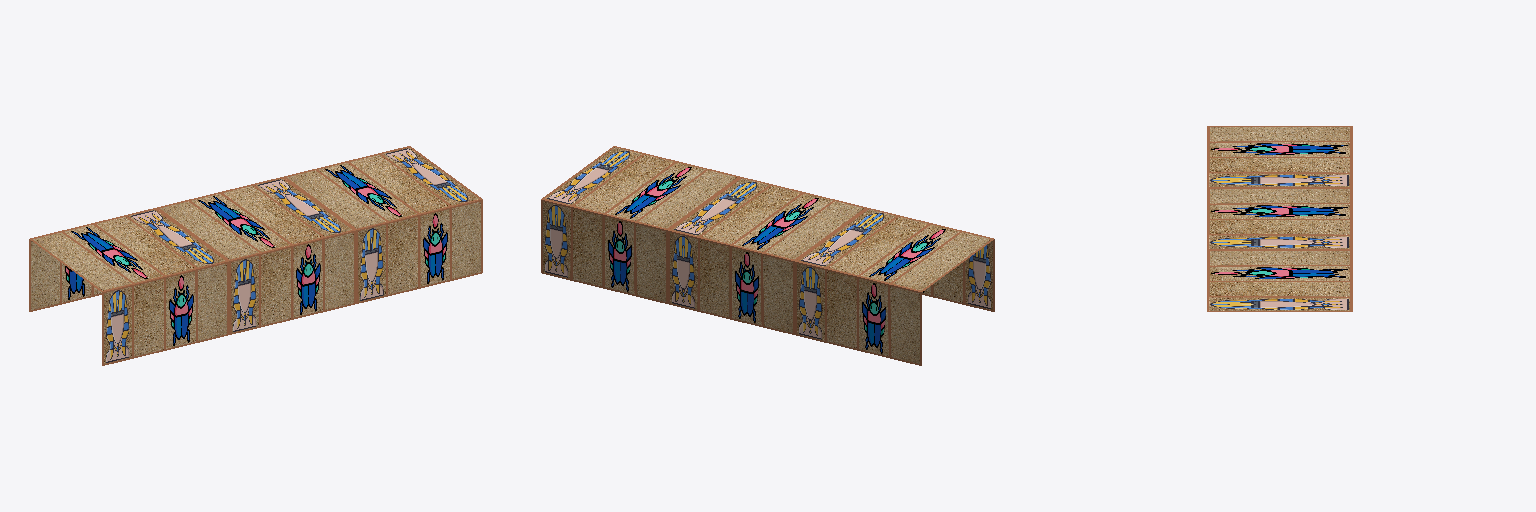
The picture shows the model from 3 angles: view 1: azimuth 30°, elevation 25°; view 2: azimuth 150°, elevation 25°; view 3: azimuth 270°, elevation 25°; orthographic projection.
Parts seen in each view (by area): view 1: Box095; view 2: Box095; view 3: Box095.
Boxes of the visible parts, x1,y1,x2,y2 form: Box095: [29, 146, 482, 365]; Box095: [541, 146, 994, 365]; Box095: [1207, 126, 1352, 311].
Size of the model in its own units: 13.5 by 2.5 by 4.5.
Materials: 1 (1 with a texture image).